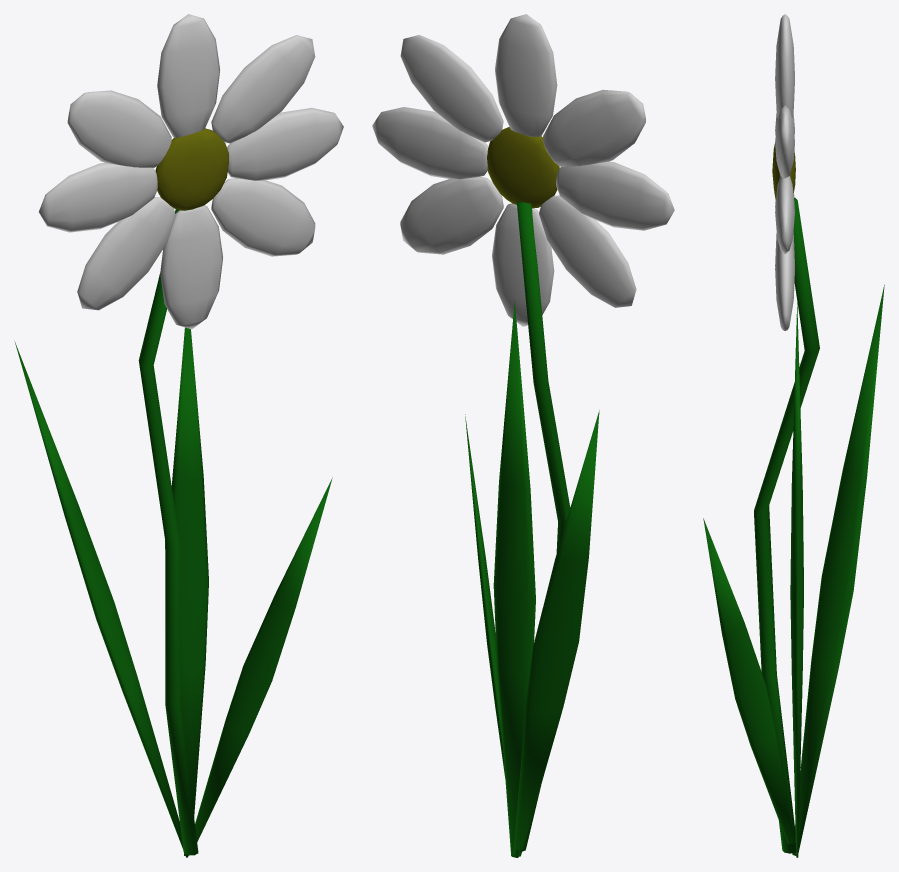
The model's file is flower.obj.
3 renders of one model, left to right at view 1: azimuth 30°, elevation 25°; view 2: azimuth 150°, elevation 25°; view 3: azimuth 270°, elevation 25°, orthographic.
Parts seen in each view (by area): view 1: Petals_Cone.002, Leaves_Cone, Center_Cone.001; view 2: Petals_Cone.002, Leaves_Cone, Center_Cone.001; view 3: Leaves_Cone, Petals_Cone.002, Center_Cone.001.
Boxes of the visible parts, <box> form: Petals_Cone.002: <box>39,14,343,329</box>; Leaves_Cone: <box>14,209,332,857</box>; Center_Cone.001: <box>155,128,228,210</box>; Petals_Cone.002: <box>372,14,674,326</box>; Leaves_Cone: <box>465,201,599,857</box>; Center_Cone.001: <box>487,127,559,208</box>; Leaves_Cone: <box>703,197,884,857</box>; Petals_Cone.002: <box>775,14,794,330</box>; Center_Cone.001: <box>772,144,795,200</box>.
Bounding box in the file's own units: 1.14 × 3.01 × 0.5907.
